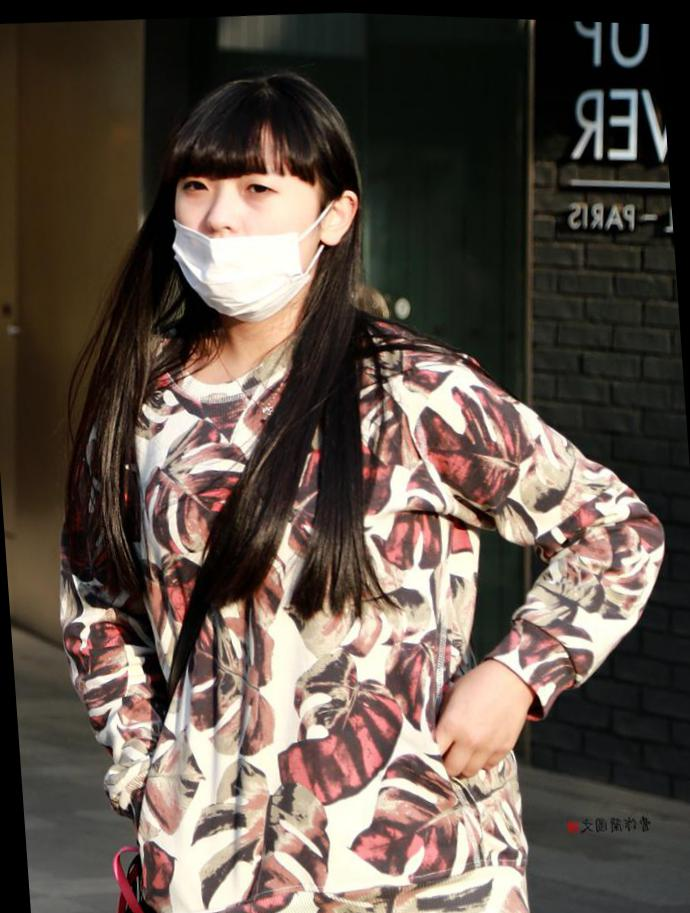WRONG: (157, 139, 333, 320)
